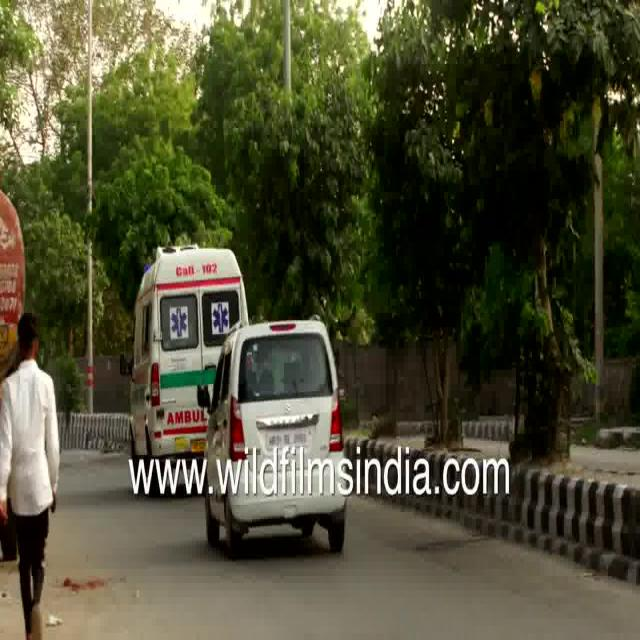ambulance: (128, 238, 253, 457)
